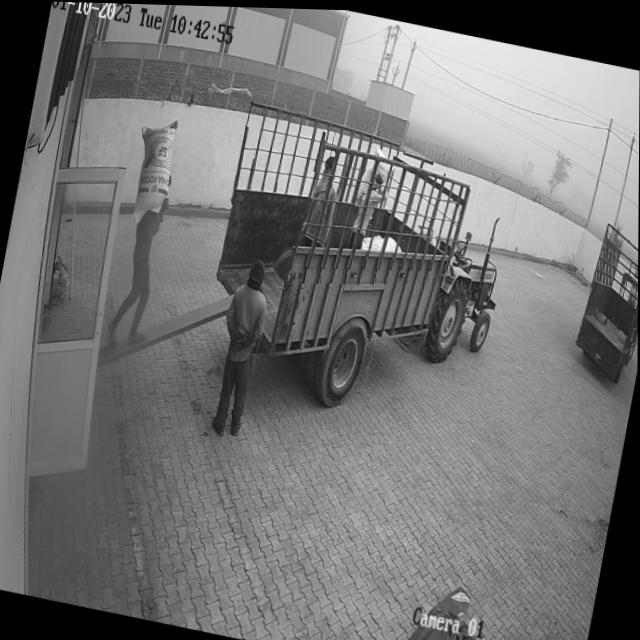sack: (124, 111, 180, 228)
